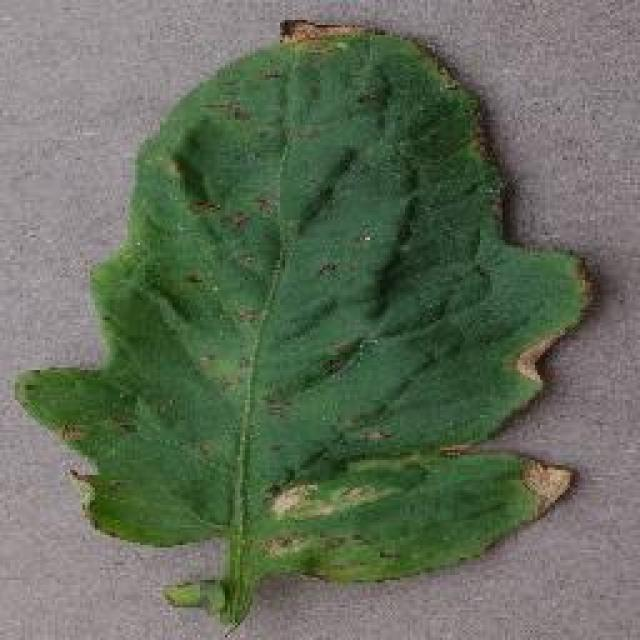Tomato bacterial spot leaf: (6, 12, 605, 624)
